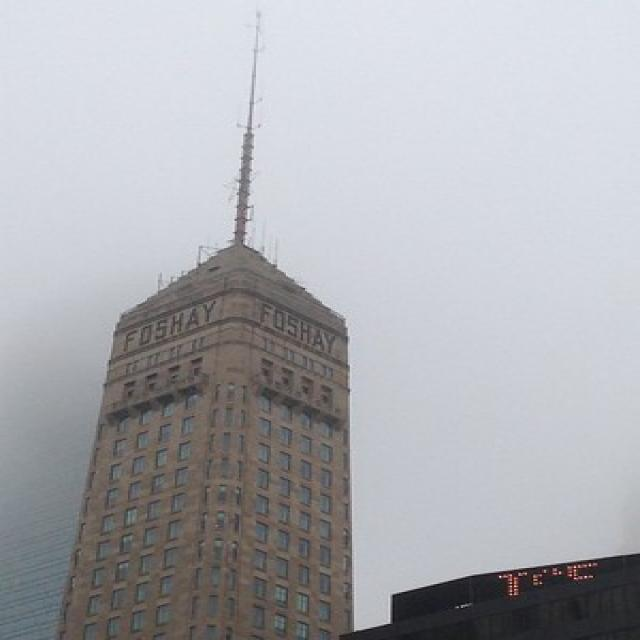Normal_building: (45, 237, 358, 640)
